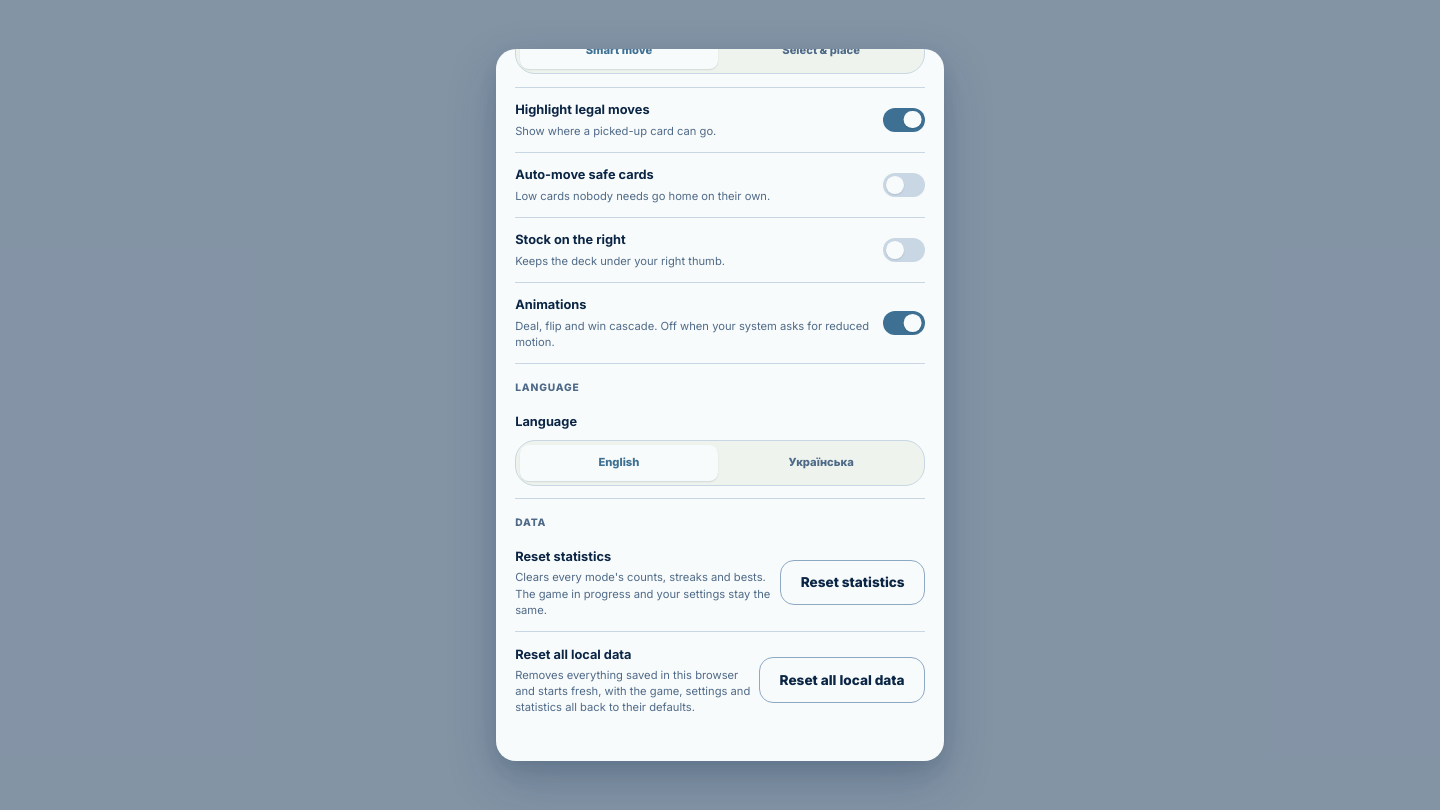
SettingsSheet: Data › Cancel on Reset all local data changes nothing and returns focus to the control
(page scrolled)
Step 1. Click the button "Reset all local data" → (842, 680), box top-left (759, 658), bottom-right (925, 703)
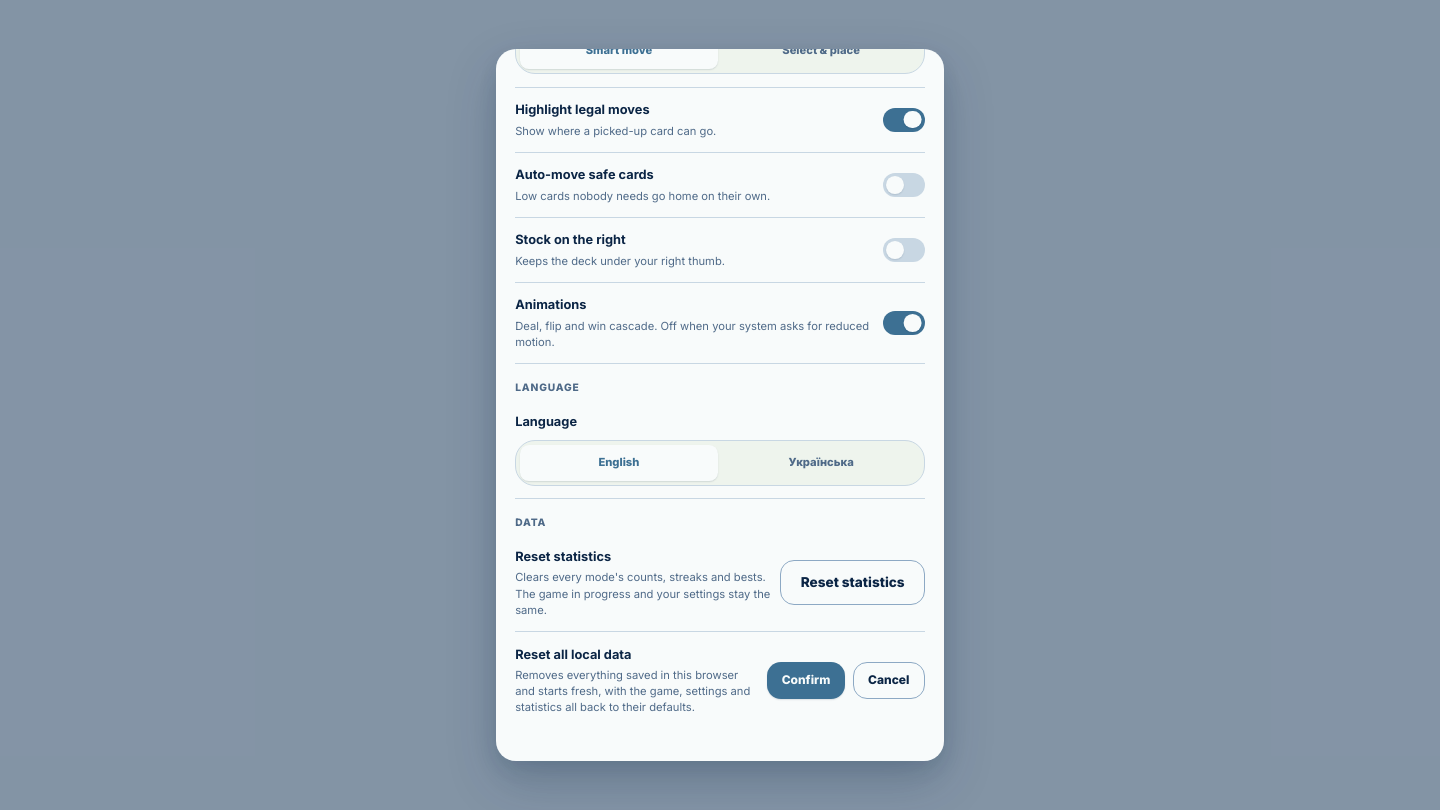
Step 2. Click the button with aria-label "Cancel Reset all local data" → (889, 680), box top-left (853, 662), bottom-right (925, 698)
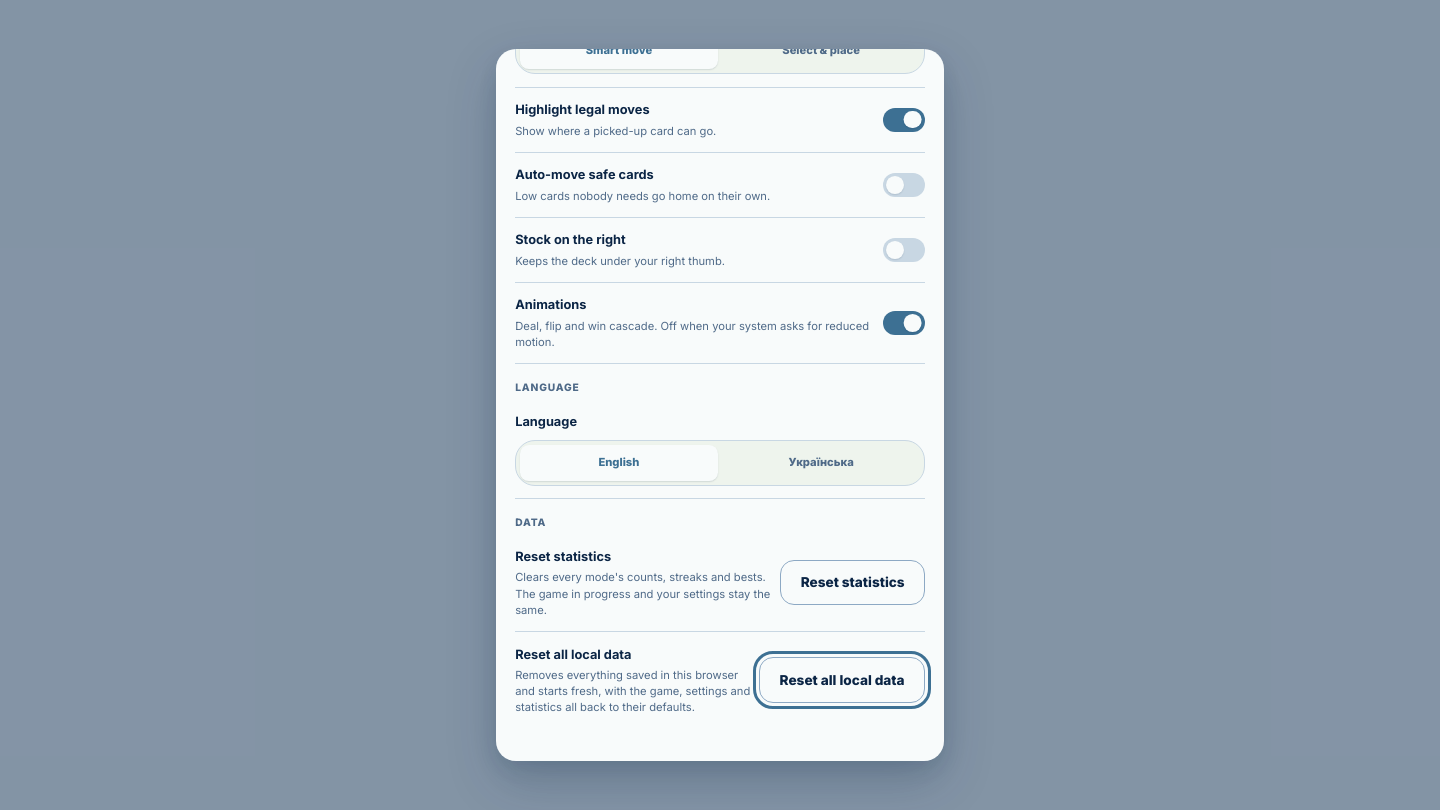
Check: the button "Reset all local data" is shown, box top-left (759, 658), bottom-right (925, 703)
